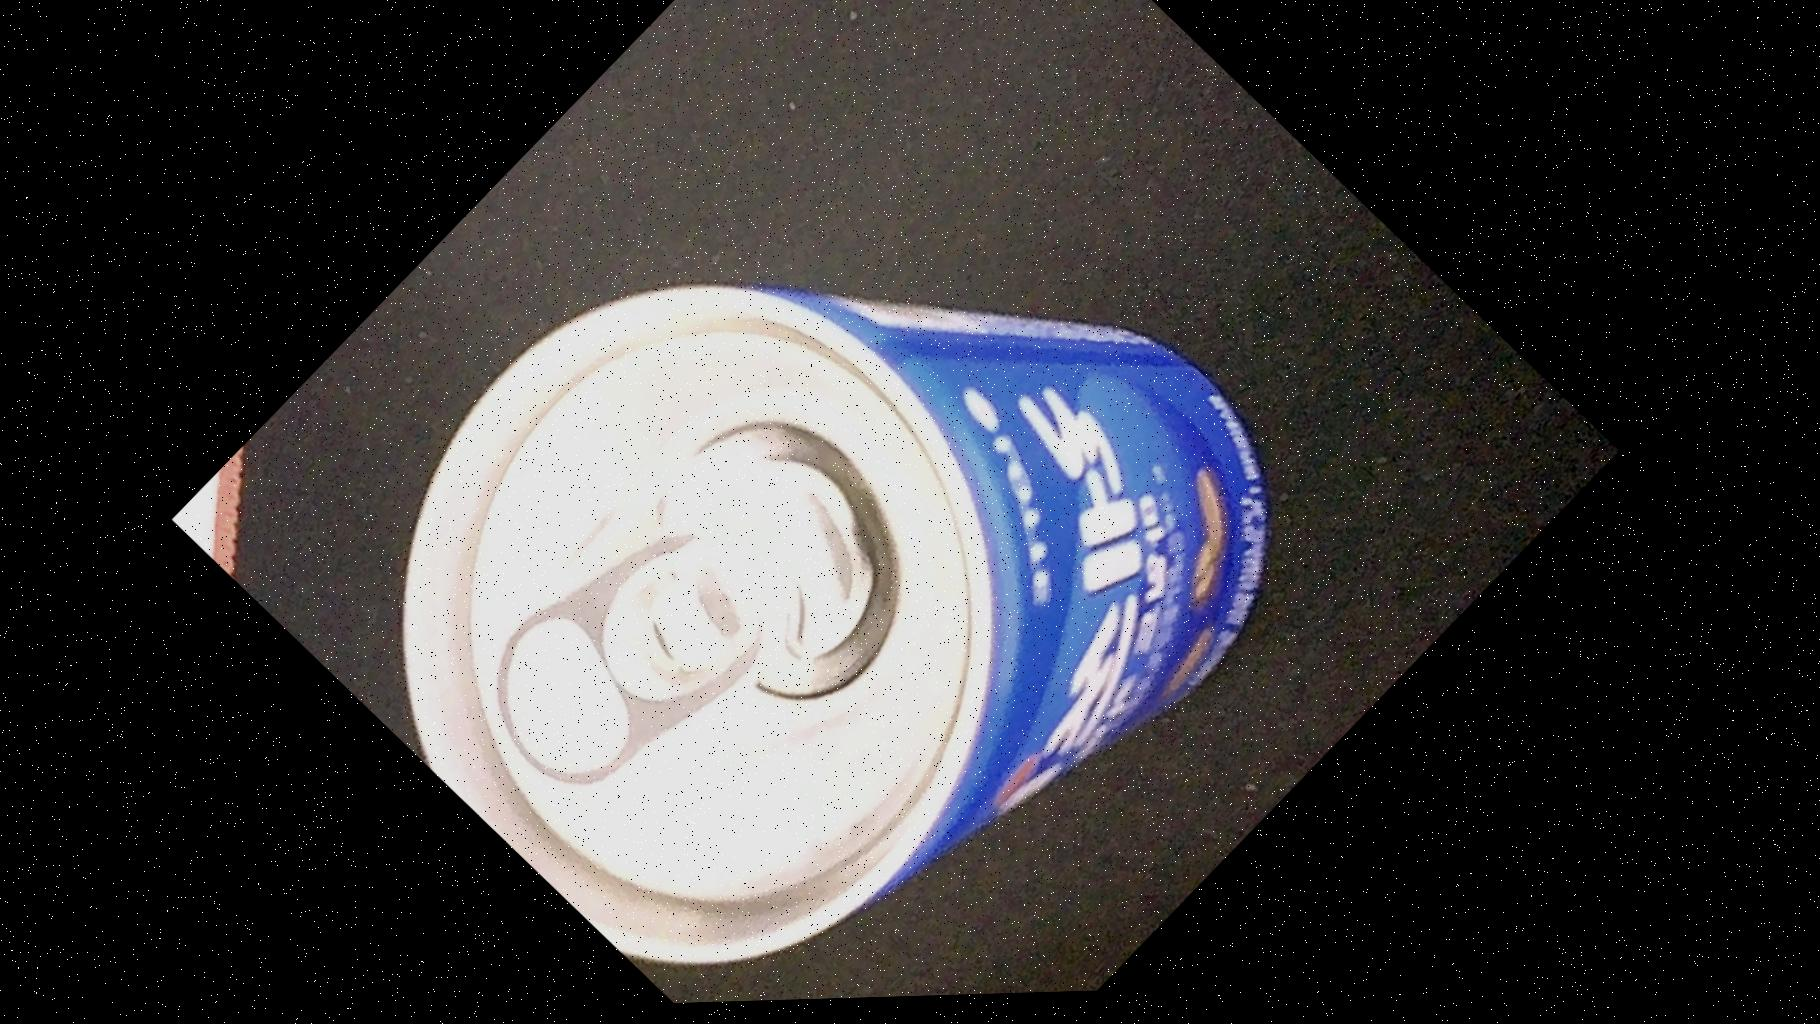letsbe: (261, 13, 1376, 1018)
